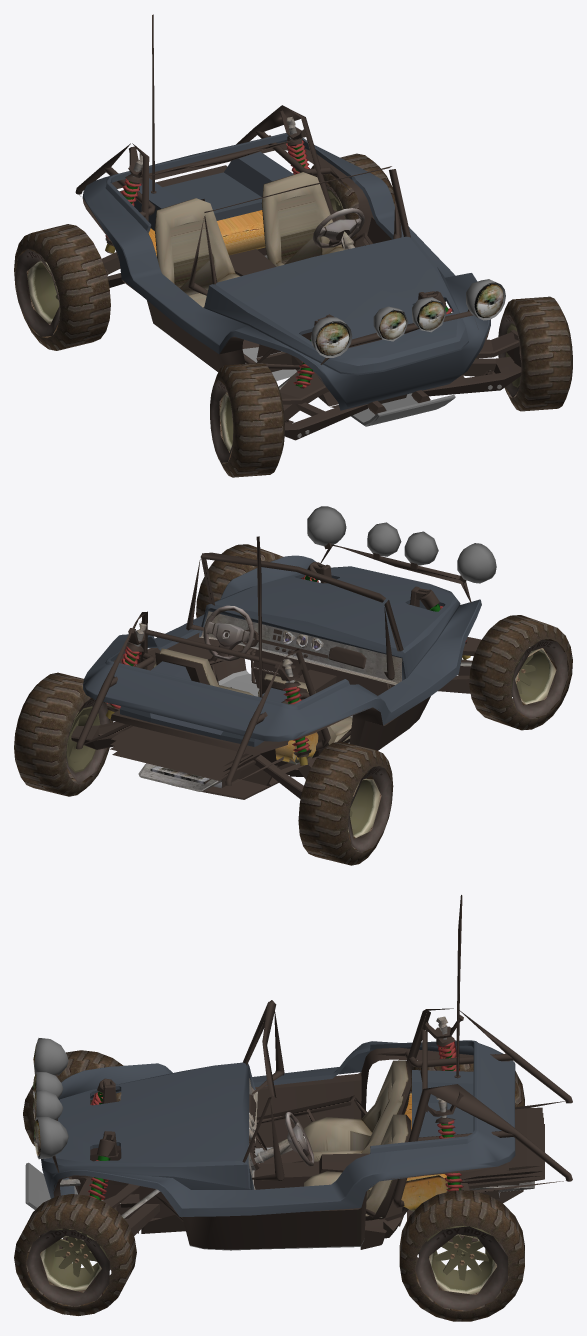
Rendered from buggy.glb.
3 renders of one model, top to bottom at view 1: azimuth 30°, elevation 25°; view 2: azimuth 150°, elevation 25°; view 3: azimuth 270°, elevation 25°, orthographic. The views are drawn at different scales.
Visible parts, largest first — view 1: rotor_hub (×11); view 2: rotor_hub (×12); view 3: rotor_hub (×11).
Boxes of the visible parts, bbox=[...] form: rotor_hub (×11): bbox=[14, 14, 572, 477]; rotor_hub (×12): bbox=[14, 506, 572, 865]; rotor_hub (×11): bbox=[14, 895, 572, 1321].
Size of the model in its own units: 0.022 by 0.0185 by 0.0296.
Materials: 17 (10 with a texture image).
